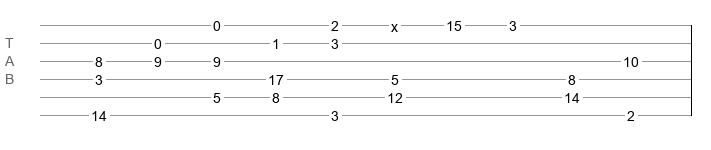0: (154, 36, 162, 46), (213, 18, 221, 28)
1: (272, 36, 280, 46)
10: (623, 54, 639, 64)
12: (387, 90, 403, 100)
14: (91, 108, 107, 118), (564, 90, 580, 100)
15: (446, 18, 462, 28)
17: (268, 72, 284, 82)
2: (331, 18, 339, 28), (627, 108, 635, 118)
3: (95, 72, 103, 82), (331, 108, 339, 118), (331, 36, 339, 46), (509, 18, 517, 28)
5: (213, 90, 221, 100), (391, 72, 399, 82)
8: (95, 54, 103, 64), (272, 90, 280, 100), (568, 72, 576, 82)
9: (154, 54, 162, 64), (213, 54, 221, 64)
x: (391, 19, 398, 27)
